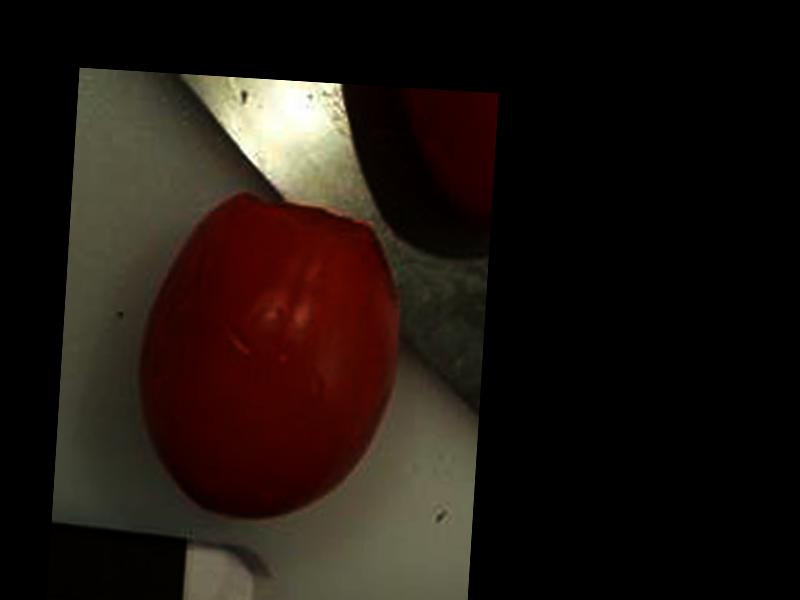Tomato: (131, 188, 409, 527)
